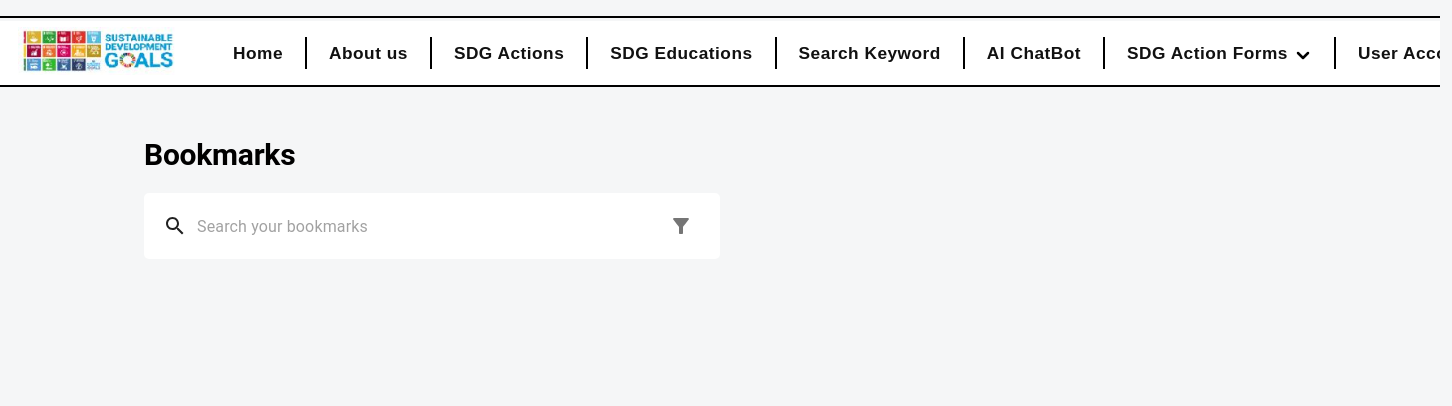
Test: Bookmarks Page › can search bookmarks
Type "Climate" into the field with placeholder "Search your bookmarks" at [429, 226], box 197,198 -> 661,254
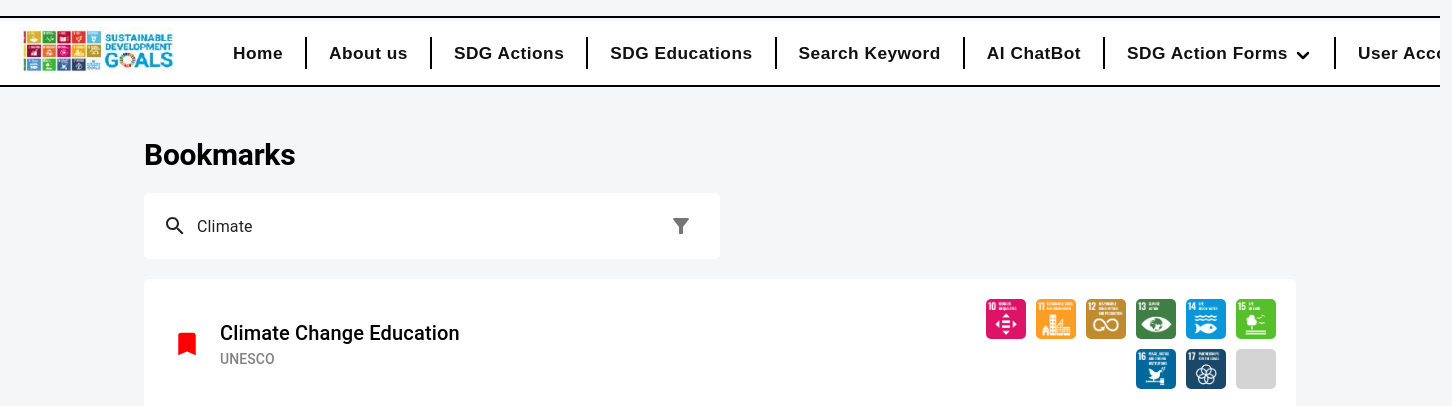
Check: the heading "Climate Change Education" is shown, box 220,317 -> 460,349
